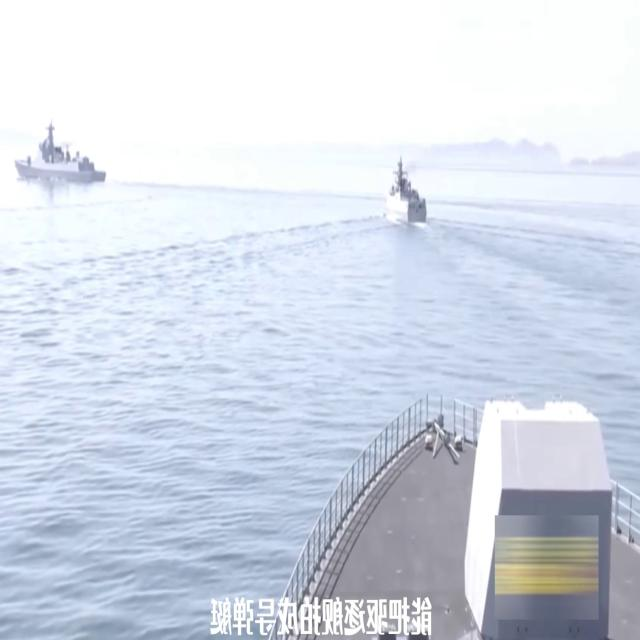navalvessels: (16, 114, 109, 184), (387, 146, 433, 223)
